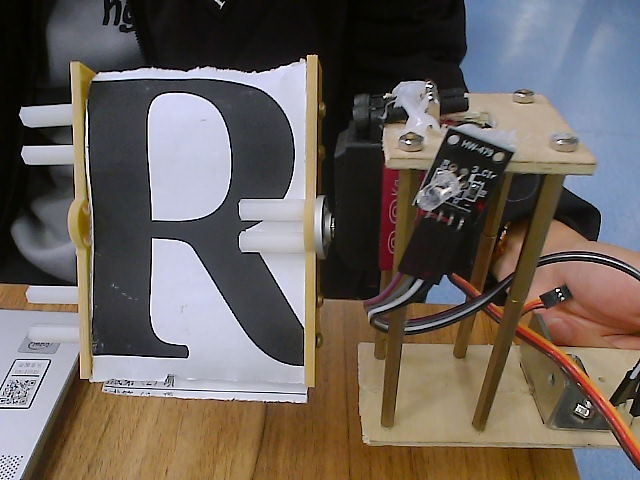R: (14, 28, 375, 421)
